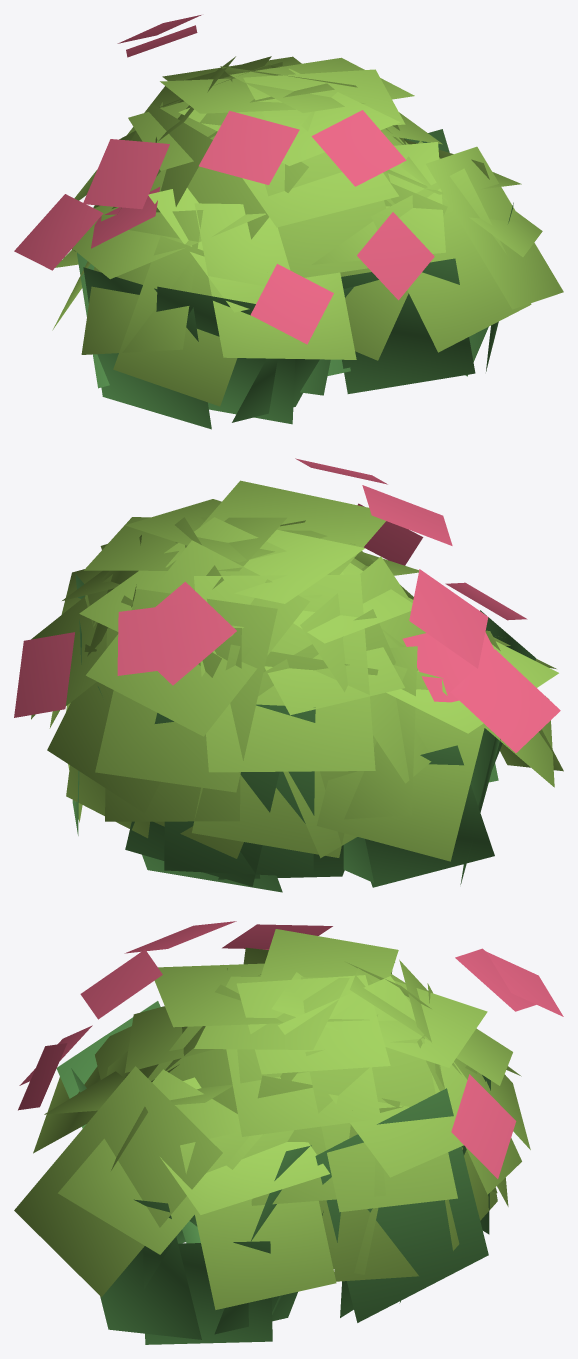
File: plant_bush_3_lod1.glb
3 renders of one model, top to bottom at view 1: azimuth 30°, elevation 25°; view 2: azimuth 150°, elevation 25°; view 3: azimuth 270°, elevation 25°, orthographic. The views are drawn at different scales.
Parts seen in each view (by area): view 1: plant_bush_3; view 2: plant_bush_3; view 3: plant_bush_3.
Part boxes in pixels (x1=…): plant_bush_3: x1=14, y1=15, x2=563, y2=429; plant_bush_3: x1=14, y1=458, x2=563, y2=892; plant_bush_3: x1=14, y1=921, x2=563, y2=1344.
Bounding box in the file's own units: 2.08 × 1.25 × 1.97.
